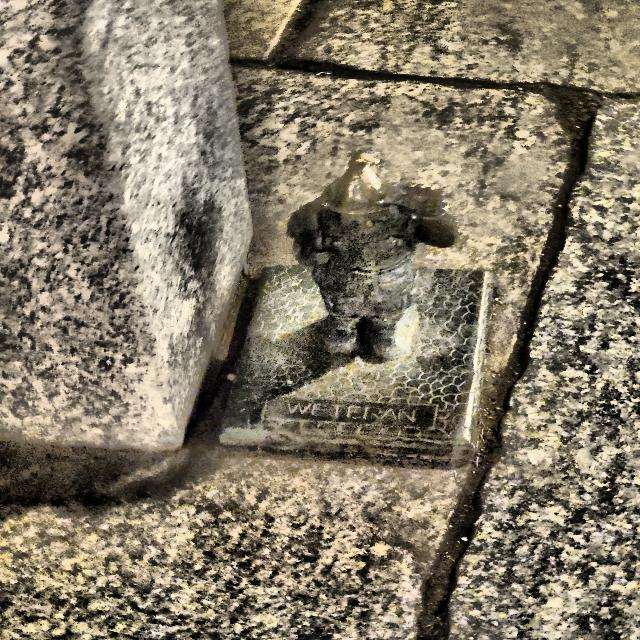Weteran: (288, 154, 457, 361)
